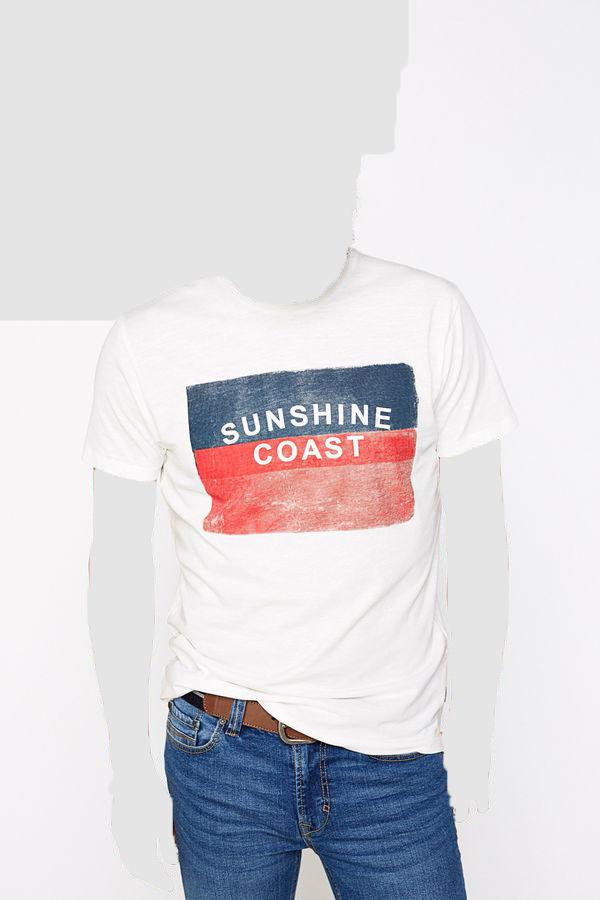teeshirt: (79, 248, 519, 769)
